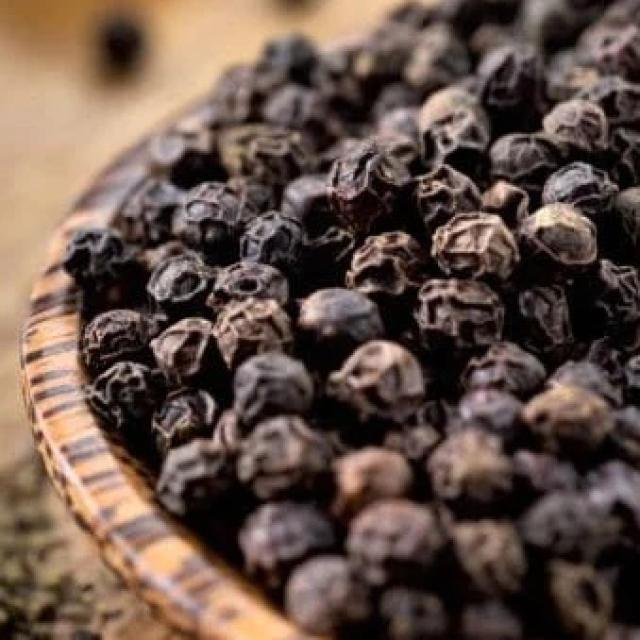Black pepper: (66, 24, 640, 640)
